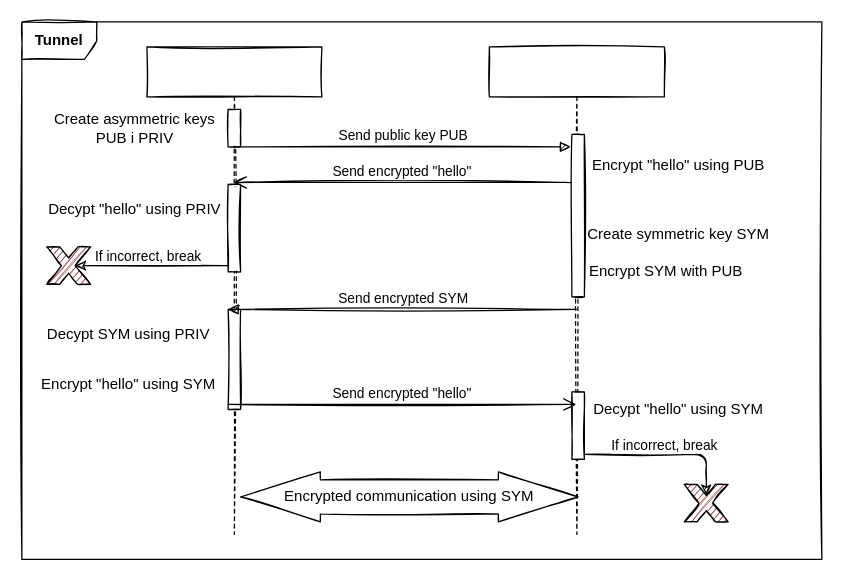
The diagram is 844 pixels wide and 581 high, and some of its shapes have lost their labels. Here are the shapes that lost their labels. From the top down, the centre of each, then its label:
At point 234,290: "Server <CommunicationTunnel>".
At point 576,290: "Client <CommunicationTunnel>".
